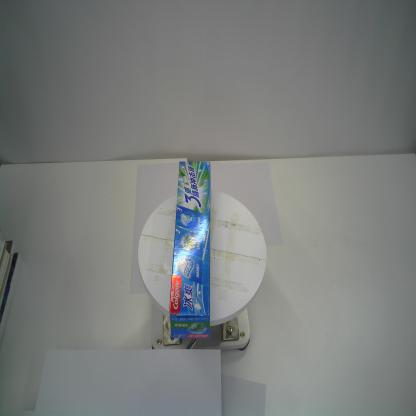Personal Hygiene: (168, 161, 210, 339)
